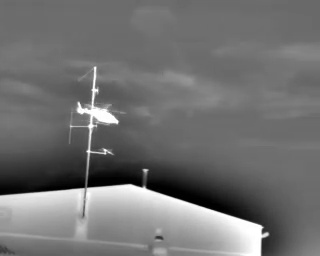HELICOPTER: (72, 96, 131, 134)
